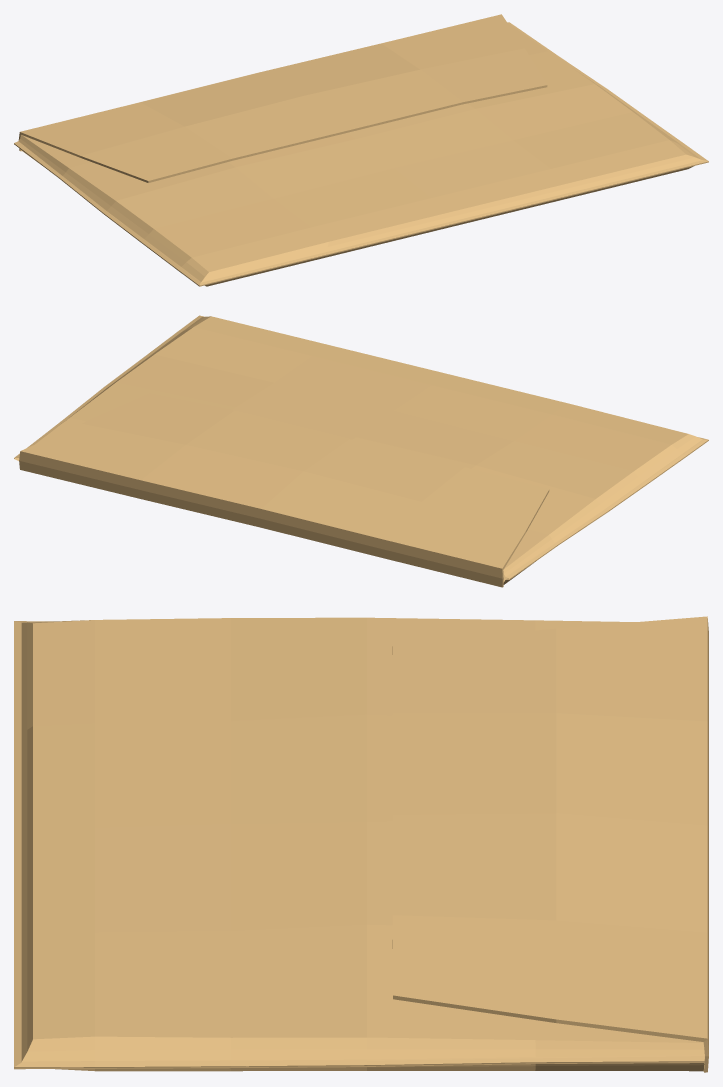
File: envelope_close.fbx
3 renders of one model, top to bottom at view 1: azimuth 30°, elevation 25°; view 2: azimuth 150°, elevation 25°; view 3: azimuth 270°, elevation 25°, orthographic. The views are drawn at different scales.
Visible parts, largest first — view 1: envelope3_close; view 2: envelope3_close; view 3: envelope3_close.
Boxes of the visible parts, box(x1,y1,x2,y2) form: envelope3_close: box(14, 14, 708, 286); envelope3_close: box(14, 315, 708, 587); envelope3_close: box(14, 616, 708, 1072).
Bounding box in the file's own units: 19.4 × 0.97 × 12.77.
